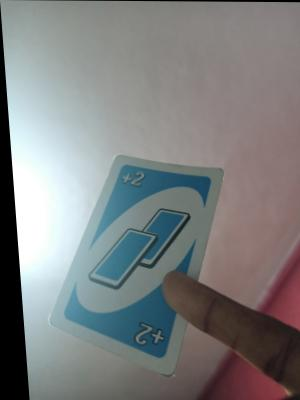-2: (118, 318, 165, 351), (112, 163, 148, 192)
blue: (66, 171, 191, 332)
